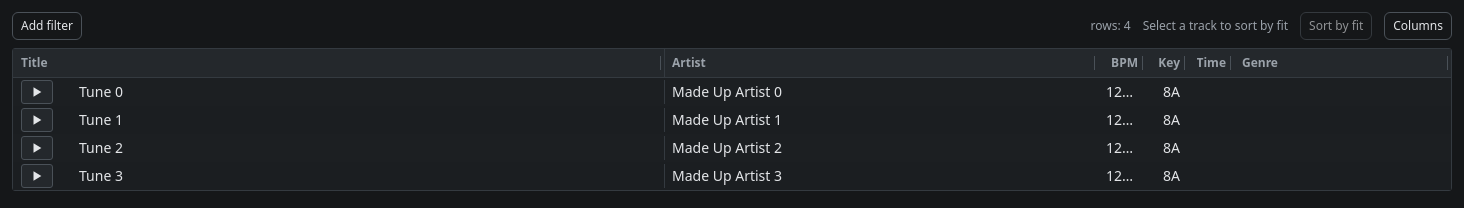
Test case: Sort by fit after the selected track › asks for the crate sorted after the selected track and shows the Fit column with dots and the reason
The width and height of the screenshot is (1464, 208).
What coordinates should you click on to do the following:
click the row "Tune 2 Made Up Artist 2 124.0 8A"
I would click on:
 (596, 148)
Its box is [13,136,1180,160].
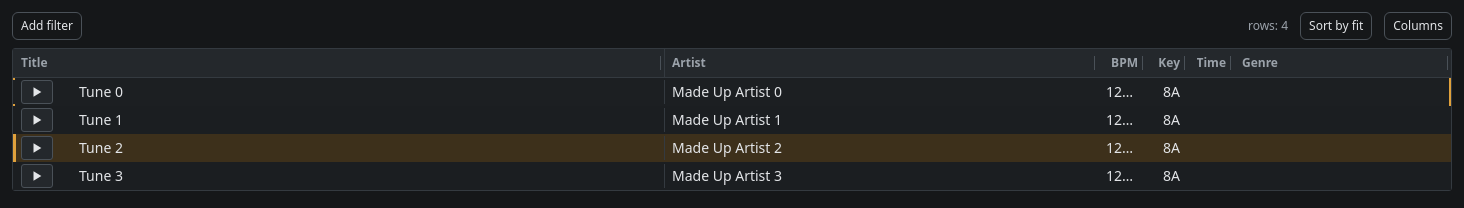
Result: the button "Sort by fit" is enabled
What coordinates should you click on to do the following:
click the button "Sort by fit"
I would click on:
 (1336, 26)
Its box is [1300,12,1372,40].
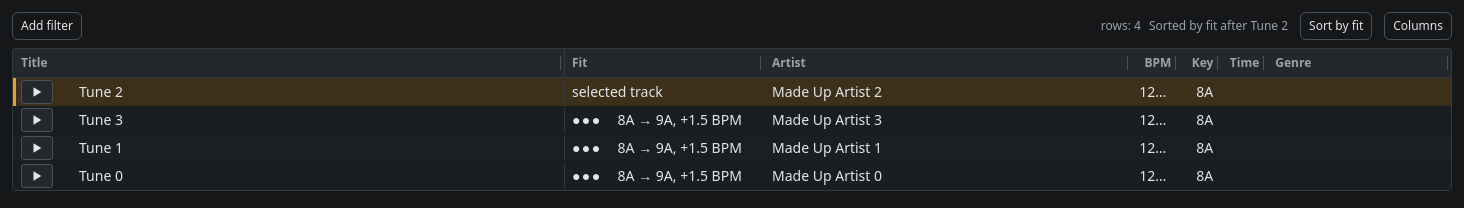
Result: the text "selected track" is shown at [572,82,663,101]
Result: the text "8A → 9A, +1.5 BPM" in the row of "Tune 3" is shown at [618,110,742,129]
Result: the text "8A → 9A, +1.5 BPM" in the row of "Tune 1" is shown at [618,138,742,157]
